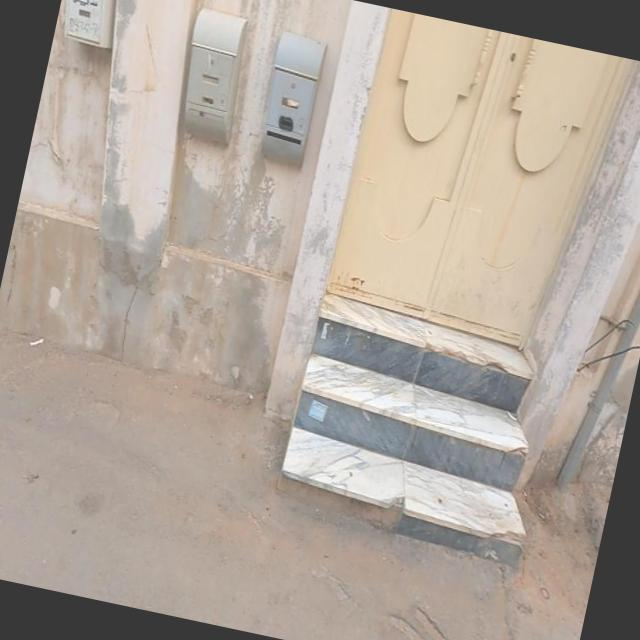debris: (0, 0, 430, 547)
